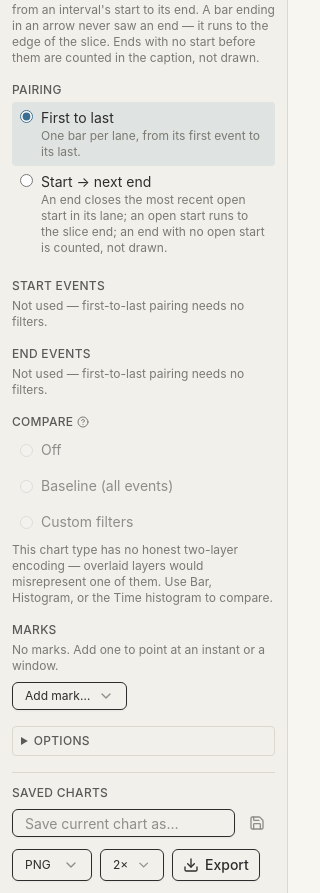
Scenario: ChartRail — interval lanes inputs › renders the lane cap under Options
The image size is (320, 893).
(page scrolled)
Click the heading "Options".
click(62, 740)  # box [34, 733, 90, 748]
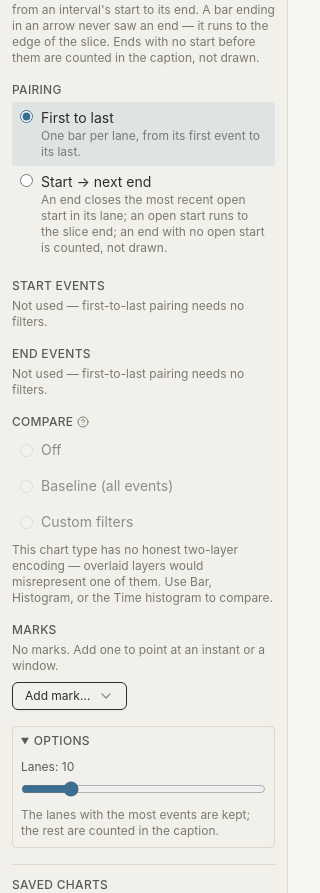
Result: the text "Lanes: 10" is shown at [21, 759, 74, 774]
